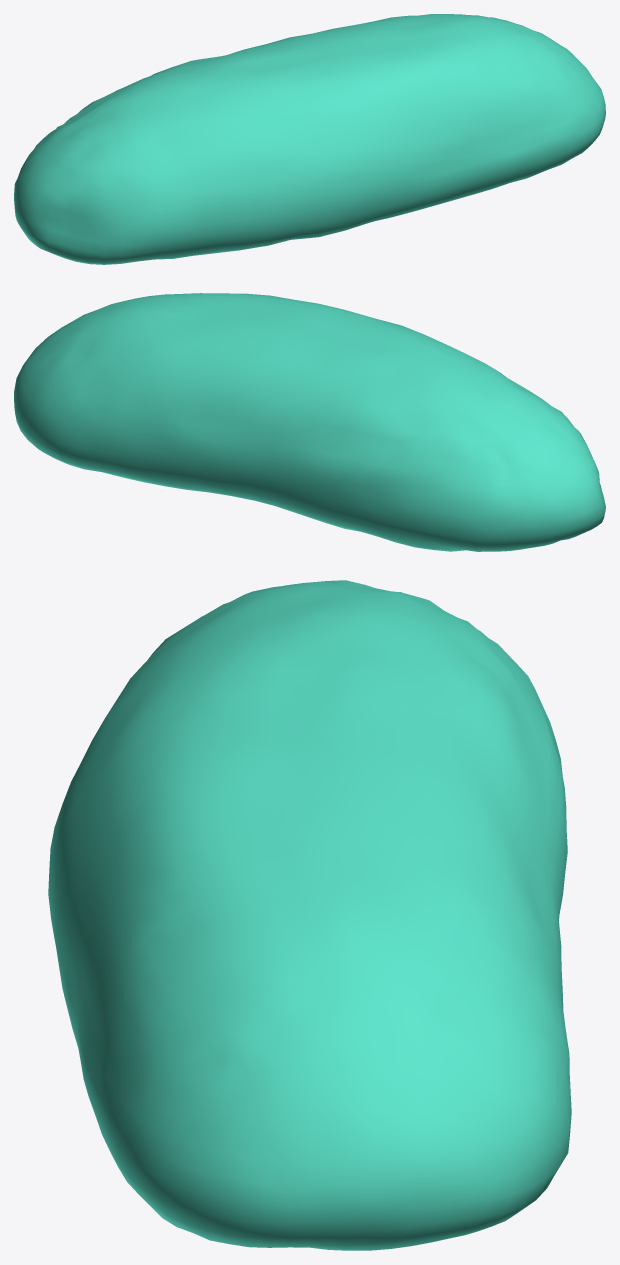
Rendered from Bread.obj.
3 views of the same model, one above another, from view 1: azimuth 30°, elevation 25°; view 2: azimuth 150°, elevation 25°; view 3: azimuth 270°, elevation 25° (orthographic). The views are drawn at different scales.
Parts seen in each view (by area): view 1: Bread; view 2: Bread; view 3: Bread.
Boxes of the visible parts, x1=… form: Bread: x1=14, y1=14, x2=605, y2=264; Bread: x1=14, y1=293, x2=605, y2=551; Bread: x1=48, y1=580, x2=571, y2=1250.
Size of the model in its own units: 37.3 by 9.07 by 15.02.
